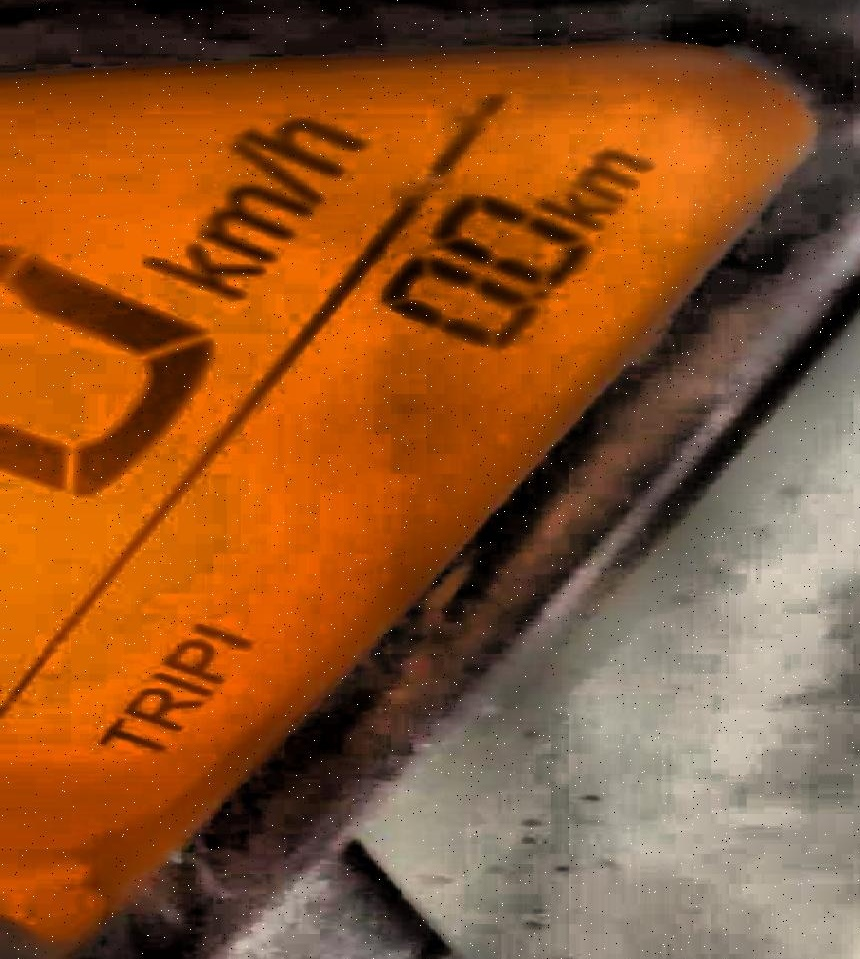-: (526, 285, 555, 301)
0: (427, 192, 589, 290), (373, 255, 531, 350)
1: (178, 617, 269, 646)
X: (235, 110, 368, 175), (197, 190, 304, 261), (124, 245, 259, 300), (209, 140, 318, 204), (580, 144, 662, 200), (120, 686, 200, 727), (160, 637, 222, 686), (544, 185, 613, 225), (91, 716, 160, 752), (149, 669, 209, 696)
